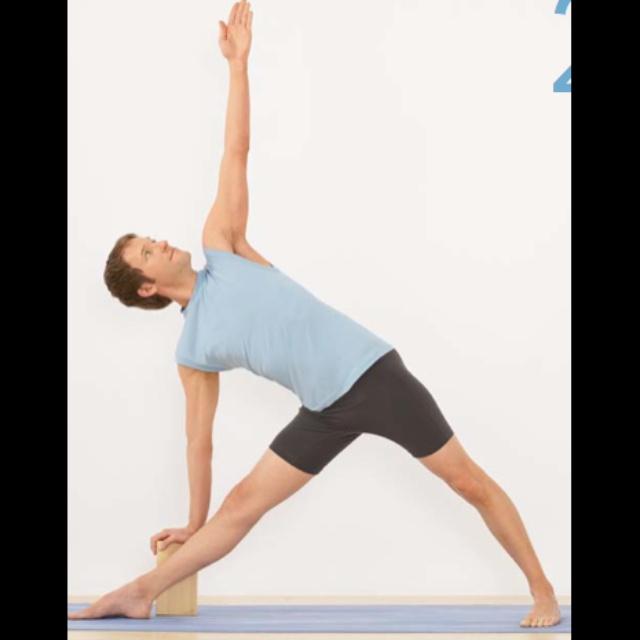Triangle_Pose: (80, 1, 562, 635)
